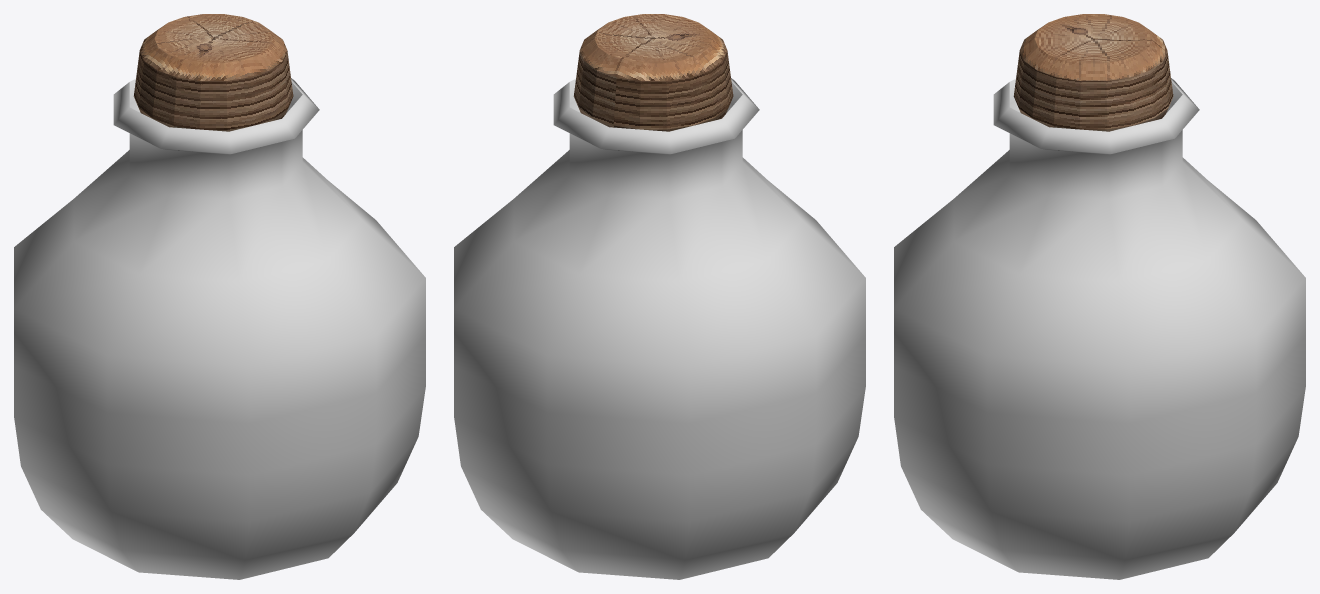
File: potion_glass.glb
3 views of the same model, side by side, from view 1: azimuth 30°, elevation 25°; view 2: azimuth 150°, elevation 25°; view 3: azimuth 270°, elevation 25° (orthographic).
Visible parts, largest first — view 1: glass, cap; view 2: glass, cap; view 3: glass, cap.
Boxes of the visible parts, box(x1,y1,x2,y2) form: glass: box(14, 78, 425, 579); cap: box(133, 14, 293, 131); glass: box(454, 78, 865, 579); cap: box(573, 14, 733, 131); glass: box(894, 78, 1305, 579); cap: box(1013, 14, 1173, 131).
Bounding box in the file's own units: 0.4727 × 0.6264 × 0.4655.
3 materials, 1 textured.
